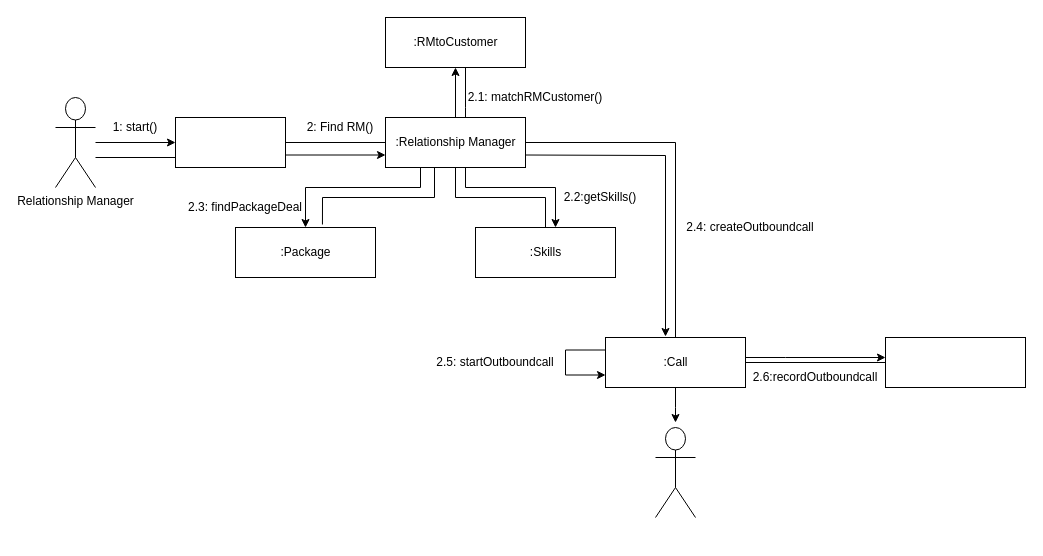
Image size: 1043x556. Some labels were removed from this diagram. The shapes that lost their labels are listed below. From the top down, each one's centre as x and y in pixels, then its label:
At point (230, 142): ":Match".
At point (955, 362): ":RecordedCall".
At point (675, 472): "Customer".
